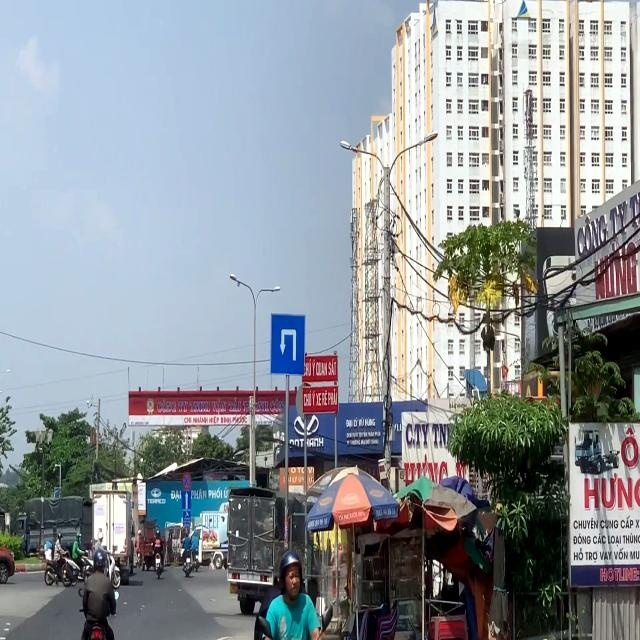bien_chi_dan: (271, 312, 308, 374)
